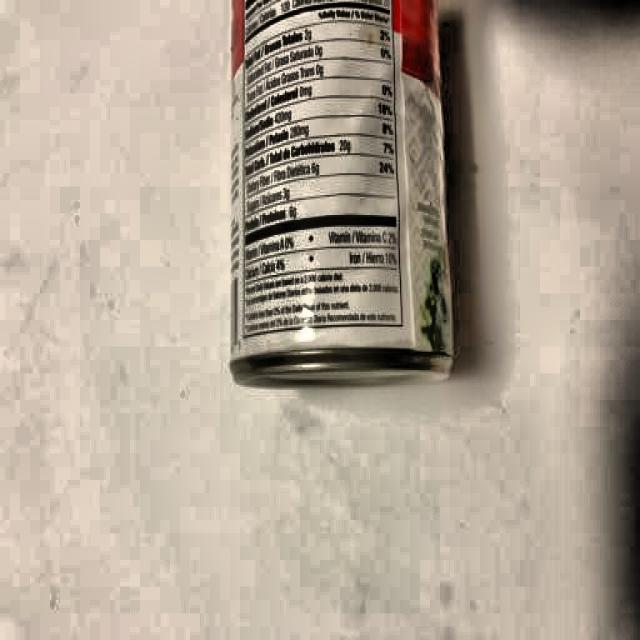metal: (225, 0, 461, 388)
